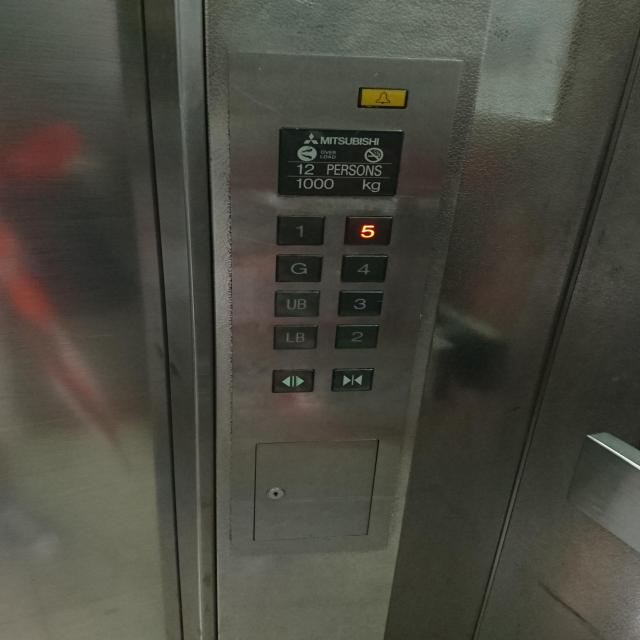1: (274, 213, 327, 248)
2: (331, 322, 382, 352)
3: (335, 288, 385, 318)
4: (337, 253, 391, 283)
5: (342, 213, 394, 247)
G: (272, 252, 324, 284)
LB: (271, 323, 320, 352)
UB: (273, 289, 322, 318)
alarm: (357, 87, 408, 109)
close: (330, 366, 376, 394)
keyhole: (266, 488, 284, 498)
open: (271, 366, 316, 394)
